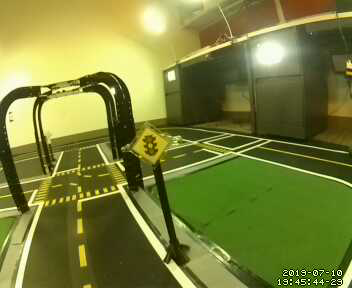Traffic light sign: (132, 125, 170, 165)
